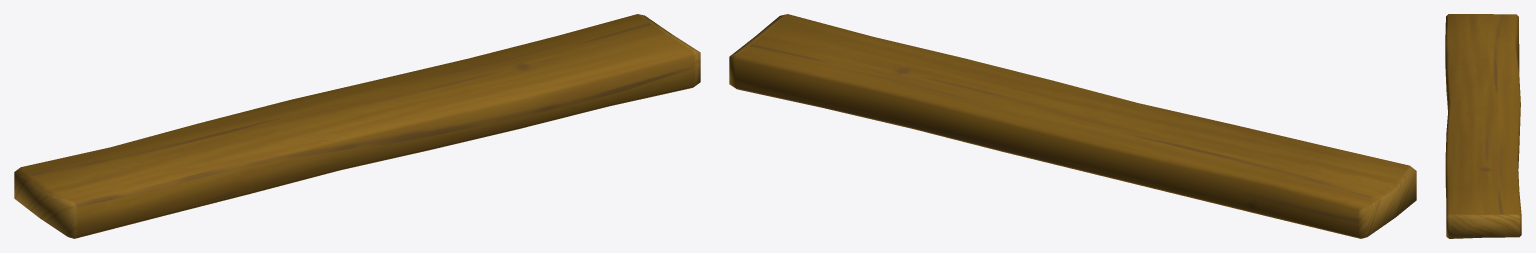
The model's file is stylized_wood_plank.glb.
3 views of the same model, side by side, from view 1: azimuth 30°, elevation 25°; view 2: azimuth 150°, elevation 25°; view 3: azimuth 270°, elevation 25° (orthographic). The views are drawn at different scales.
Parts seen in each view (by area): view 1: wood_plank_middle_01; view 2: wood_plank_middle_01; view 3: wood_plank_middle_01.
Part boxes in pixels (bbox=[...]): wood_plank_middle_01: bbox=[14, 14, 700, 238]; wood_plank_middle_01: bbox=[729, 14, 1416, 238]; wood_plank_middle_01: bbox=[1445, 14, 1521, 238].
Bounding box in the file's own units: 201 × 11.17 × 31.54.
1 material, 1 textured.
